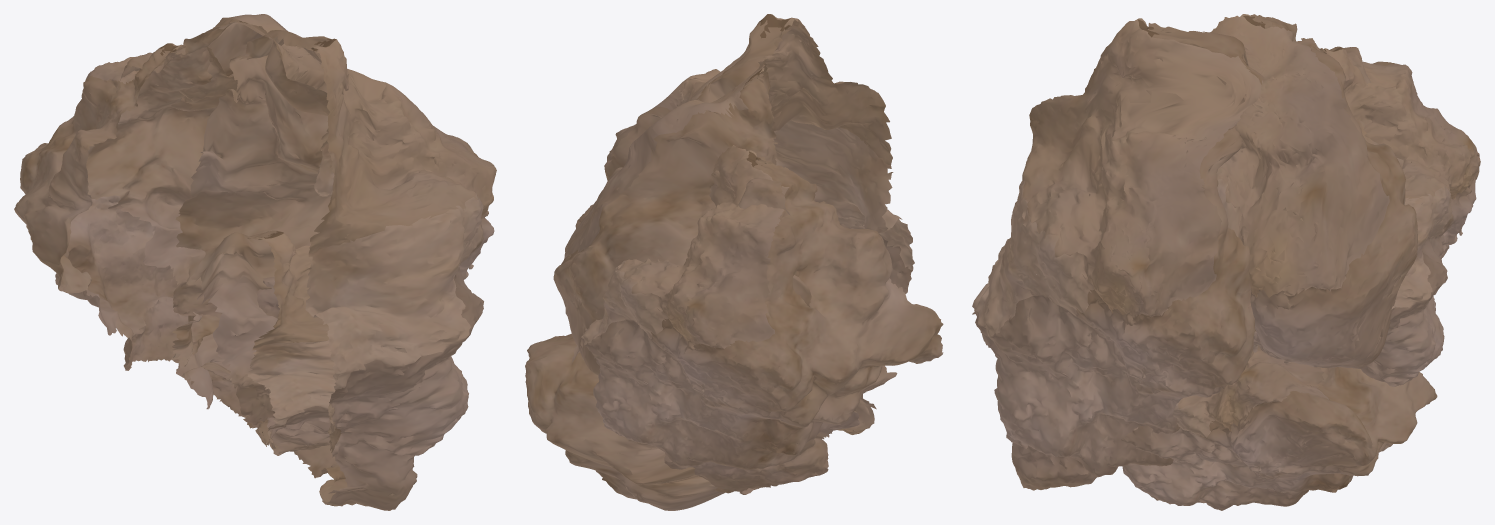
File: polevoy_shpat.glb
The picture shows the model from 3 angles, left to right: view 1: azimuth 30°, elevation 25°; view 2: azimuth 150°, elevation 25°; view 3: azimuth 270°, elevation 25°; orthographic projection. The views are drawn at different scales.
Parts seen in each view (by area): view 1: Object_2.005; view 2: Object_2.005; view 3: Object_2.005.
Boxes of the visible parts, box(x1,y1,x2,y2) form: Object_2.005: box(14, 14, 496, 510); Object_2.005: box(525, 14, 943, 510); Object_2.005: box(972, 14, 1480, 510).
Bounding box in the file's own units: 3.68 × 4.02 × 4.03.
Materials: 4 (4 with a texture image).
